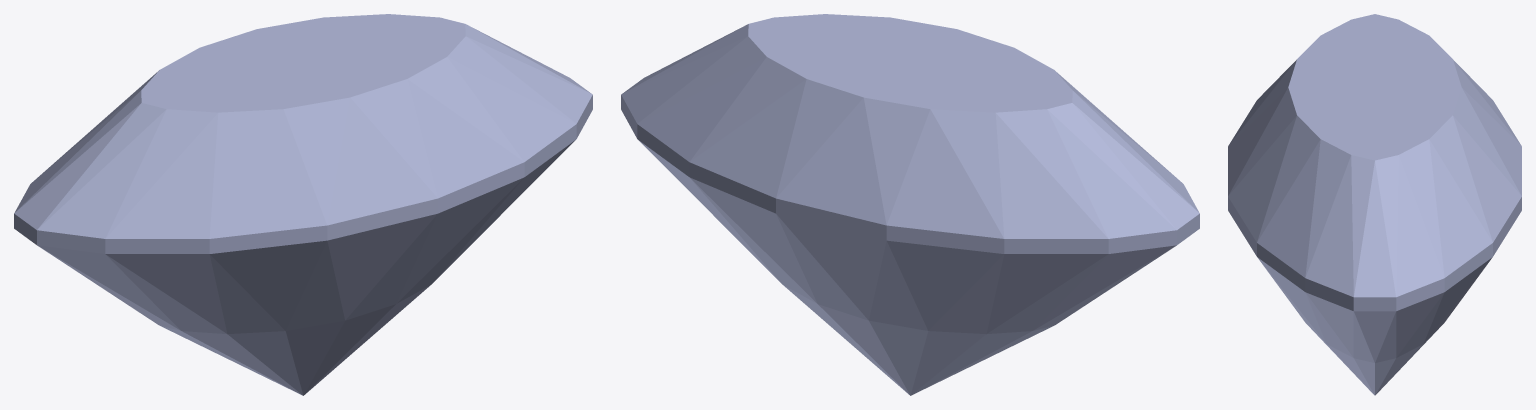
The model's file is iolite.glb.
3 renders of one model, left to right at view 1: azimuth 30°, elevation 25°; view 2: azimuth 150°, elevation 25°; view 3: azimuth 270°, elevation 25°, orthographic. The views are drawn at different scales.
Visible parts, largest first — view 1: iolite; view 2: iolite; view 3: iolite.
Boxes of the visible parts, left/top/right/bottom form: iolite: left=14, top=14, right=592, bottom=395; iolite: left=621, top=14, right=1199, bottom=395; iolite: left=1228, top=14, right=1521, bottom=395.
Bounding box in the file's own units: 0.25 × 0.1429 × 0.1234.
